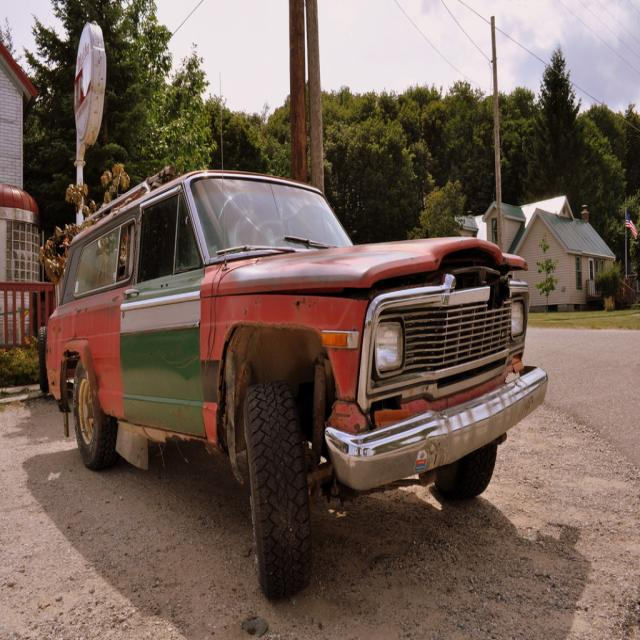car: (42, 171, 539, 563)
